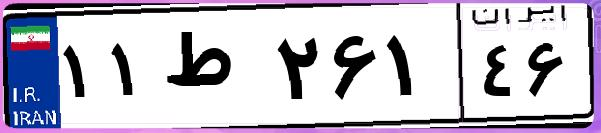1: (385, 28, 445, 110), (57, 26, 110, 100), (110, 28, 158, 98)
2: (270, 28, 330, 110)
4: (475, 38, 525, 113)
6: (330, 28, 385, 110), (525, 38, 570, 115)
ط: (158, 20, 270, 120)
